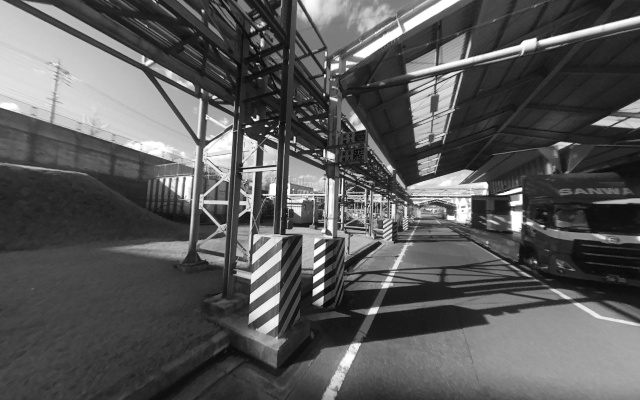bollard: (247, 232, 305, 337), (315, 238, 345, 312), (381, 217, 398, 244), (401, 216, 410, 232)
